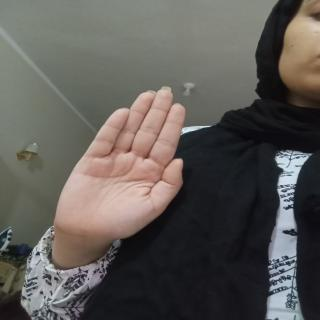SEEN: (52, 81, 210, 252)
